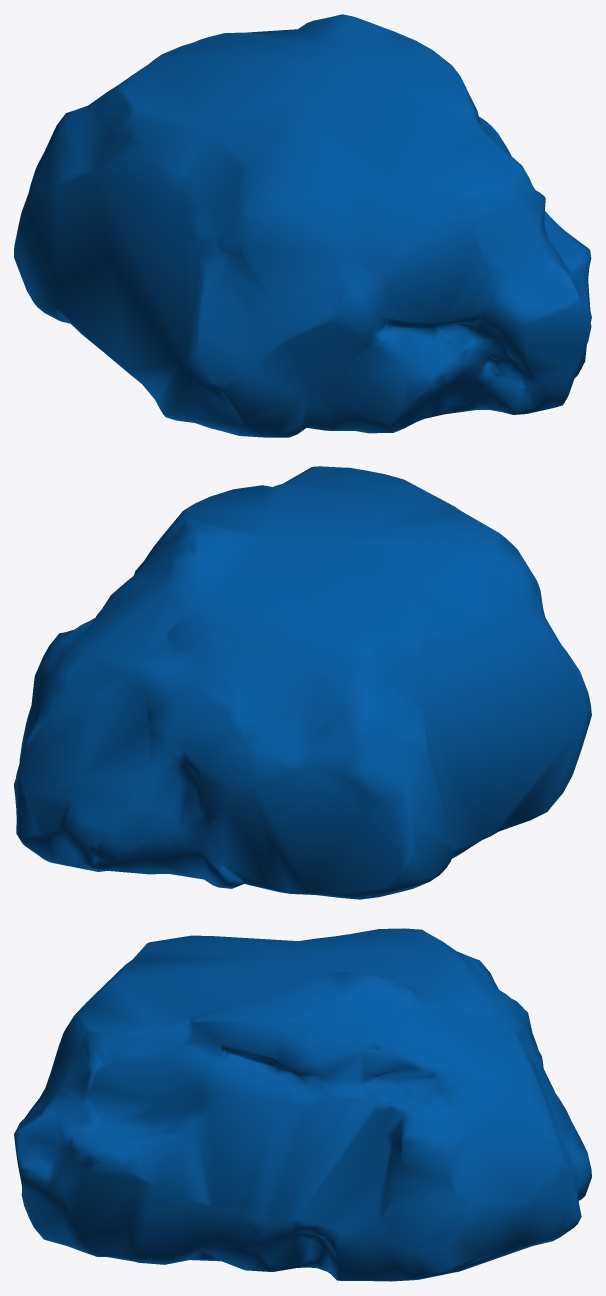
The model's file is rock_mossy_17.glb.
The picture shows the model from 3 angles, top to bottom: view 1: azimuth 30°, elevation 25°; view 2: azimuth 150°, elevation 25°; view 3: azimuth 270°, elevation 25°; orthographic projection. The views are drawn at different scales.
Parts seen in each view (by area): view 1: mossy_green_rock17_LOW_RES; view 2: mossy_green_rock17_LOW_RES; view 3: mossy_green_rock17_LOW_RES.
Part boxes in pixels (left/top/right/bottom): mossy_green_rock17_LOW_RES: left=14, top=14, right=591, bottom=437; mossy_green_rock17_LOW_RES: left=14, top=466, right=591, bottom=899; mossy_green_rock17_LOW_RES: left=14, top=928, right=591, bottom=1281.
Size of the model in its own units: 0.734 by 0.501 by 0.9998.
1 material, 1 textured.
